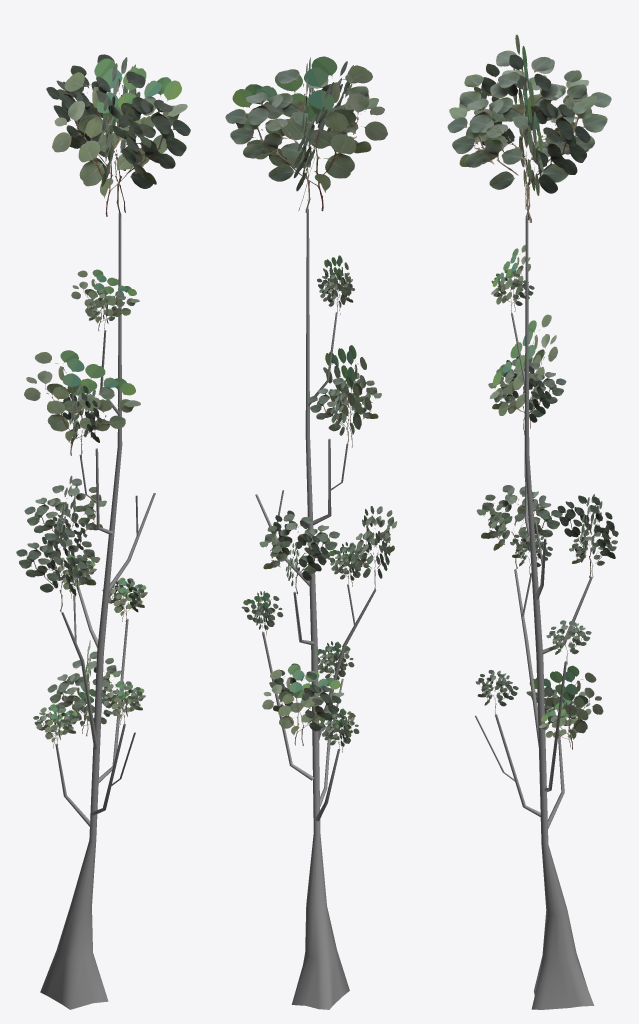
File: tree_1_3.FBX
3 renders of one model, left to right at view 1: azimuth 30°, elevation 25°; view 2: azimuth 150°, elevation 25°; view 3: azimuth 270°, elevation 25°, orthographic. The views are drawn at different scales.
Parts seen in each view (by area): view 1: Plane005, Cylinder004; view 2: Plane005, Cylinder004; view 3: Plane005, Cylinder004.
Boxes of the visible parts, x1,y1,x2,y2 form: Plane005: [16, 54, 190, 748]; Cylinder004: [40, 214, 155, 1009]; Plane005: [225, 56, 397, 752]; Cylinder004: [255, 209, 376, 1009]; Plane005: [447, 34, 618, 749]; Cylinder004: [475, 217, 594, 1009].
Bounding box in the file's own units: 216 × 1135 × 208.
